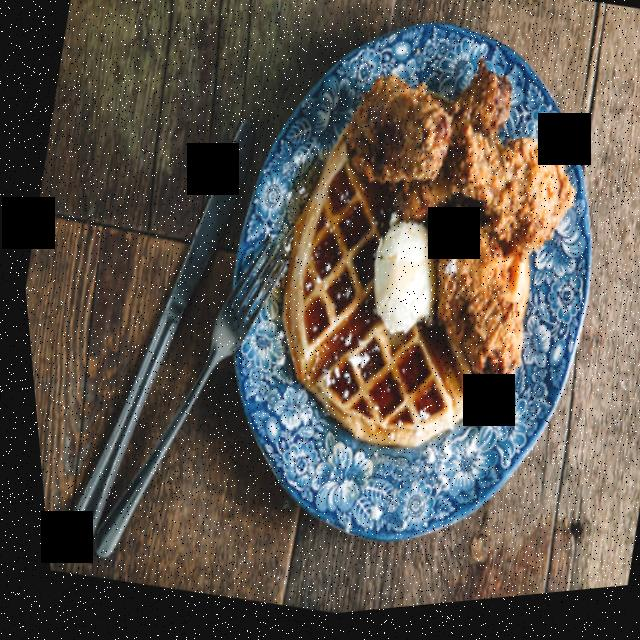Frango: (281, 36, 610, 415)
